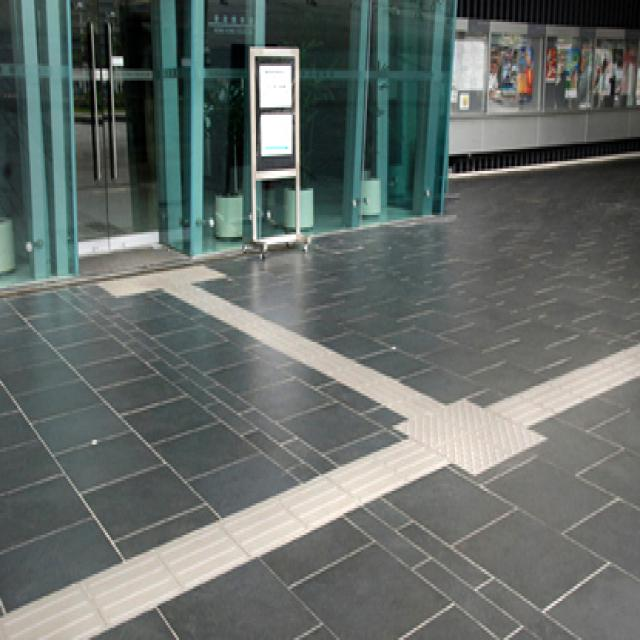tactile-guide-path: (0, 440, 452, 638), (164, 284, 446, 416), (484, 342, 638, 427), (393, 398, 546, 474)
